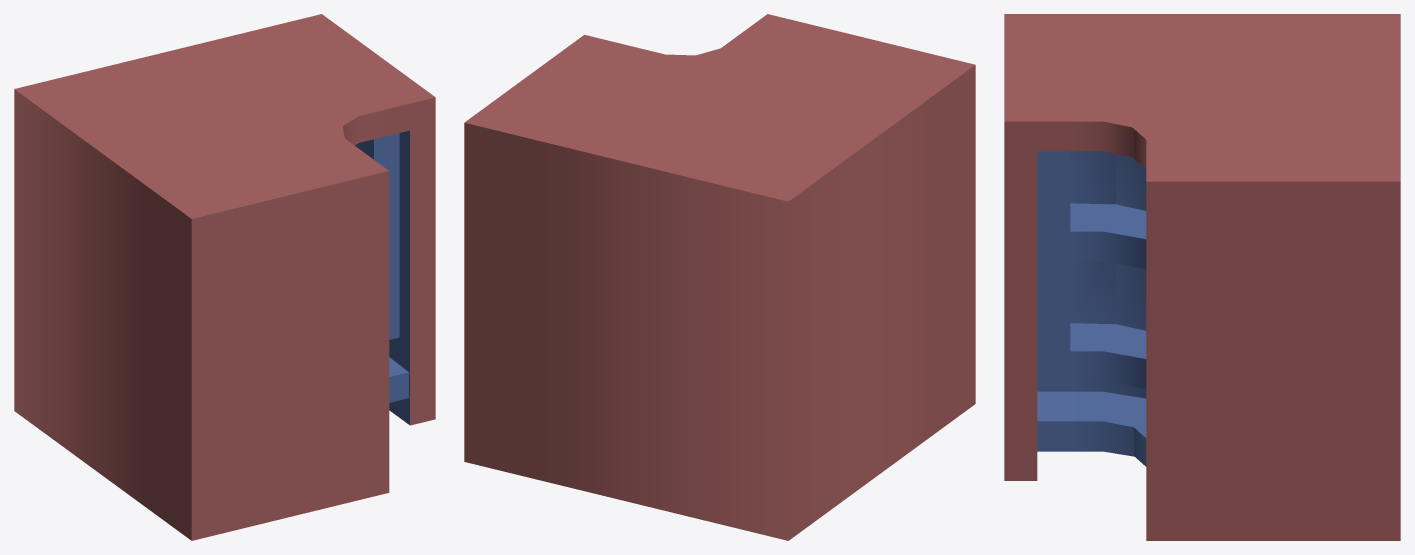
File: Küchentheke_1_ecke_low.fbx
3 renders of one model, left to right at view 1: azimuth 30°, elevation 25°; view 2: azimuth 150°, elevation 25°; view 3: azimuth 270°, elevation 25°, orthographic. The views are drawn at different scales.
Visible parts, largest first — view 1: Mesh; view 2: Mesh; view 3: Mesh.
Boxes of the visible parts, box(x1,y1,x2,y2) form: Mesh: box(14, 14, 435, 540); Mesh: box(464, 14, 975, 540); Mesh: box(1004, 14, 1400, 540).
Bounding box in the file's own units: 1 × 1 × 1.
